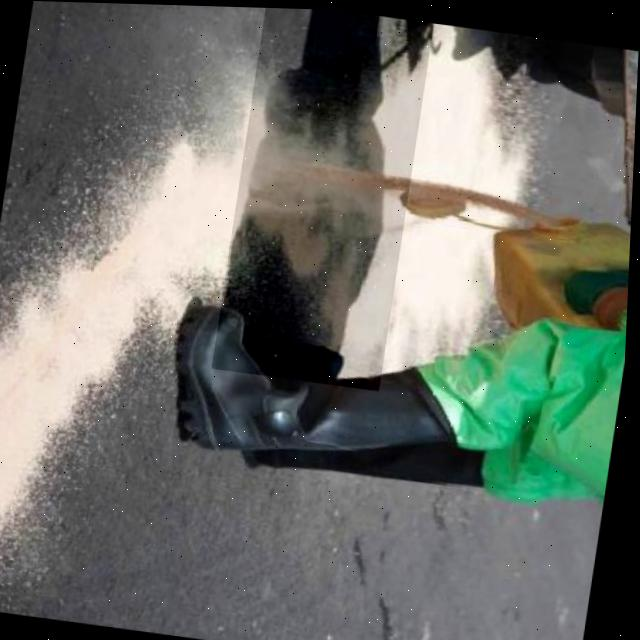spillage: (225, 7, 432, 374)
